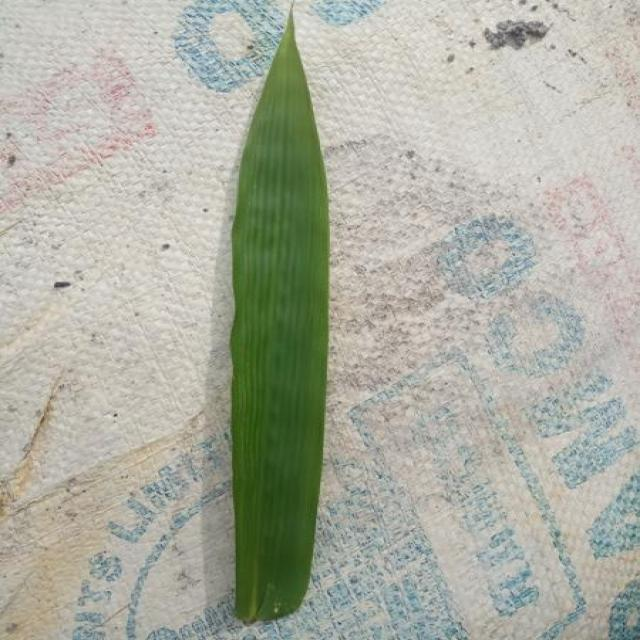Bamboo: (232, 11, 328, 622)
defectedBamboo: (235, 505, 315, 622)
